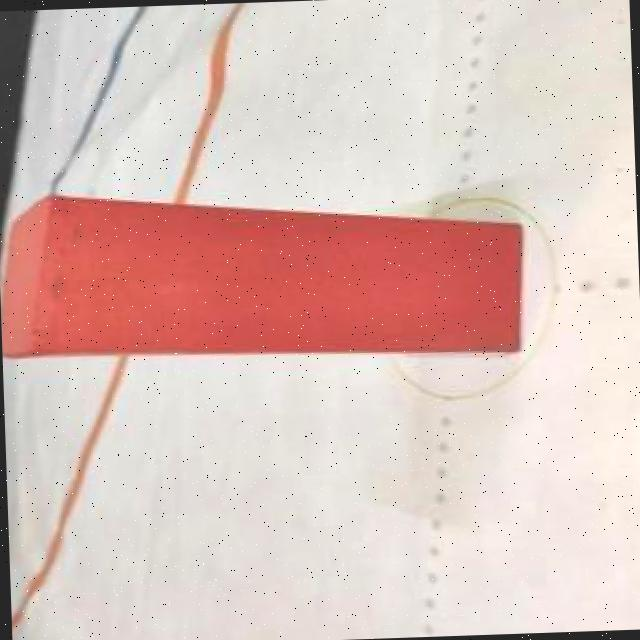redbox: (0, 177, 527, 371)
